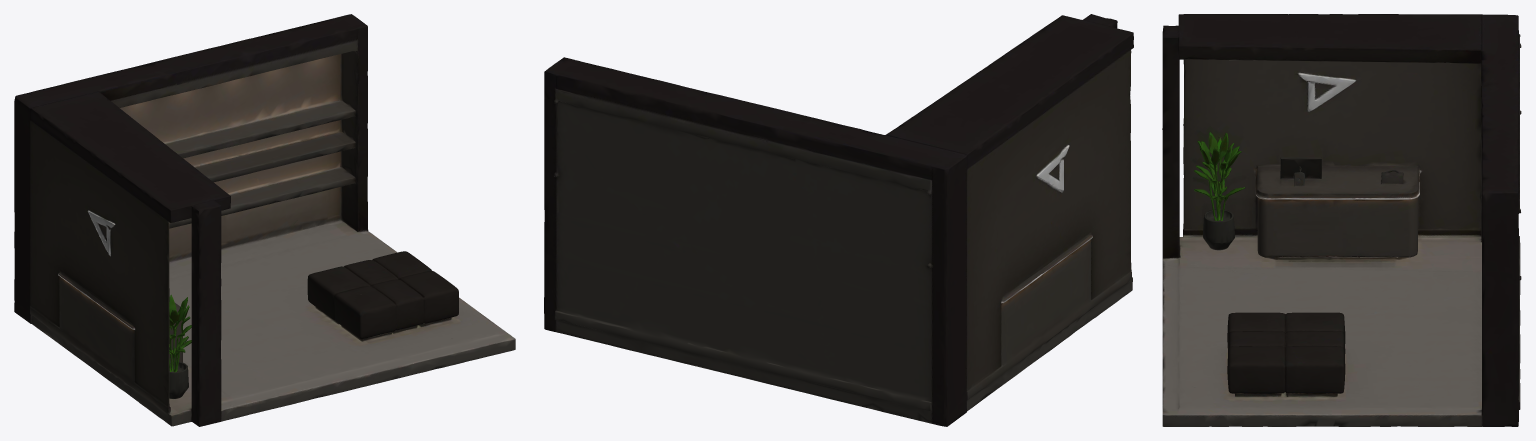
The model's file is room.glb.
3 views of the same model, side by side, from view 1: azimuth 30°, elevation 25°; view 2: azimuth 150°, elevation 25°; view 3: azimuth 270°, elevation 25° (orthographic). The views are drawn at different scales.
Parts seen in each view (by area): view 1: tripo_node_f572db9b-1e2c-43bf-a15e-c098feb0cf71; view 2: tripo_node_f572db9b-1e2c-43bf-a15e-c098feb0cf71; view 3: tripo_node_f572db9b-1e2c-43bf-a15e-c098feb0cf71.
Boxes of the visible parts, x1,y1,x2,y2 form: tripo_node_f572db9b-1e2c-43bf-a15e-c098feb0cf71: (14,14,515,426); tripo_node_f572db9b-1e2c-43bf-a15e-c098feb0cf71: (544,14,1133,426); tripo_node_f572db9b-1e2c-43bf-a15e-c098feb0cf71: (1162,14,1521,426).
Size of the model in its own units: 1 by 0.6101 by 0.8442.
Materials: 1 (1 with a texture image).
